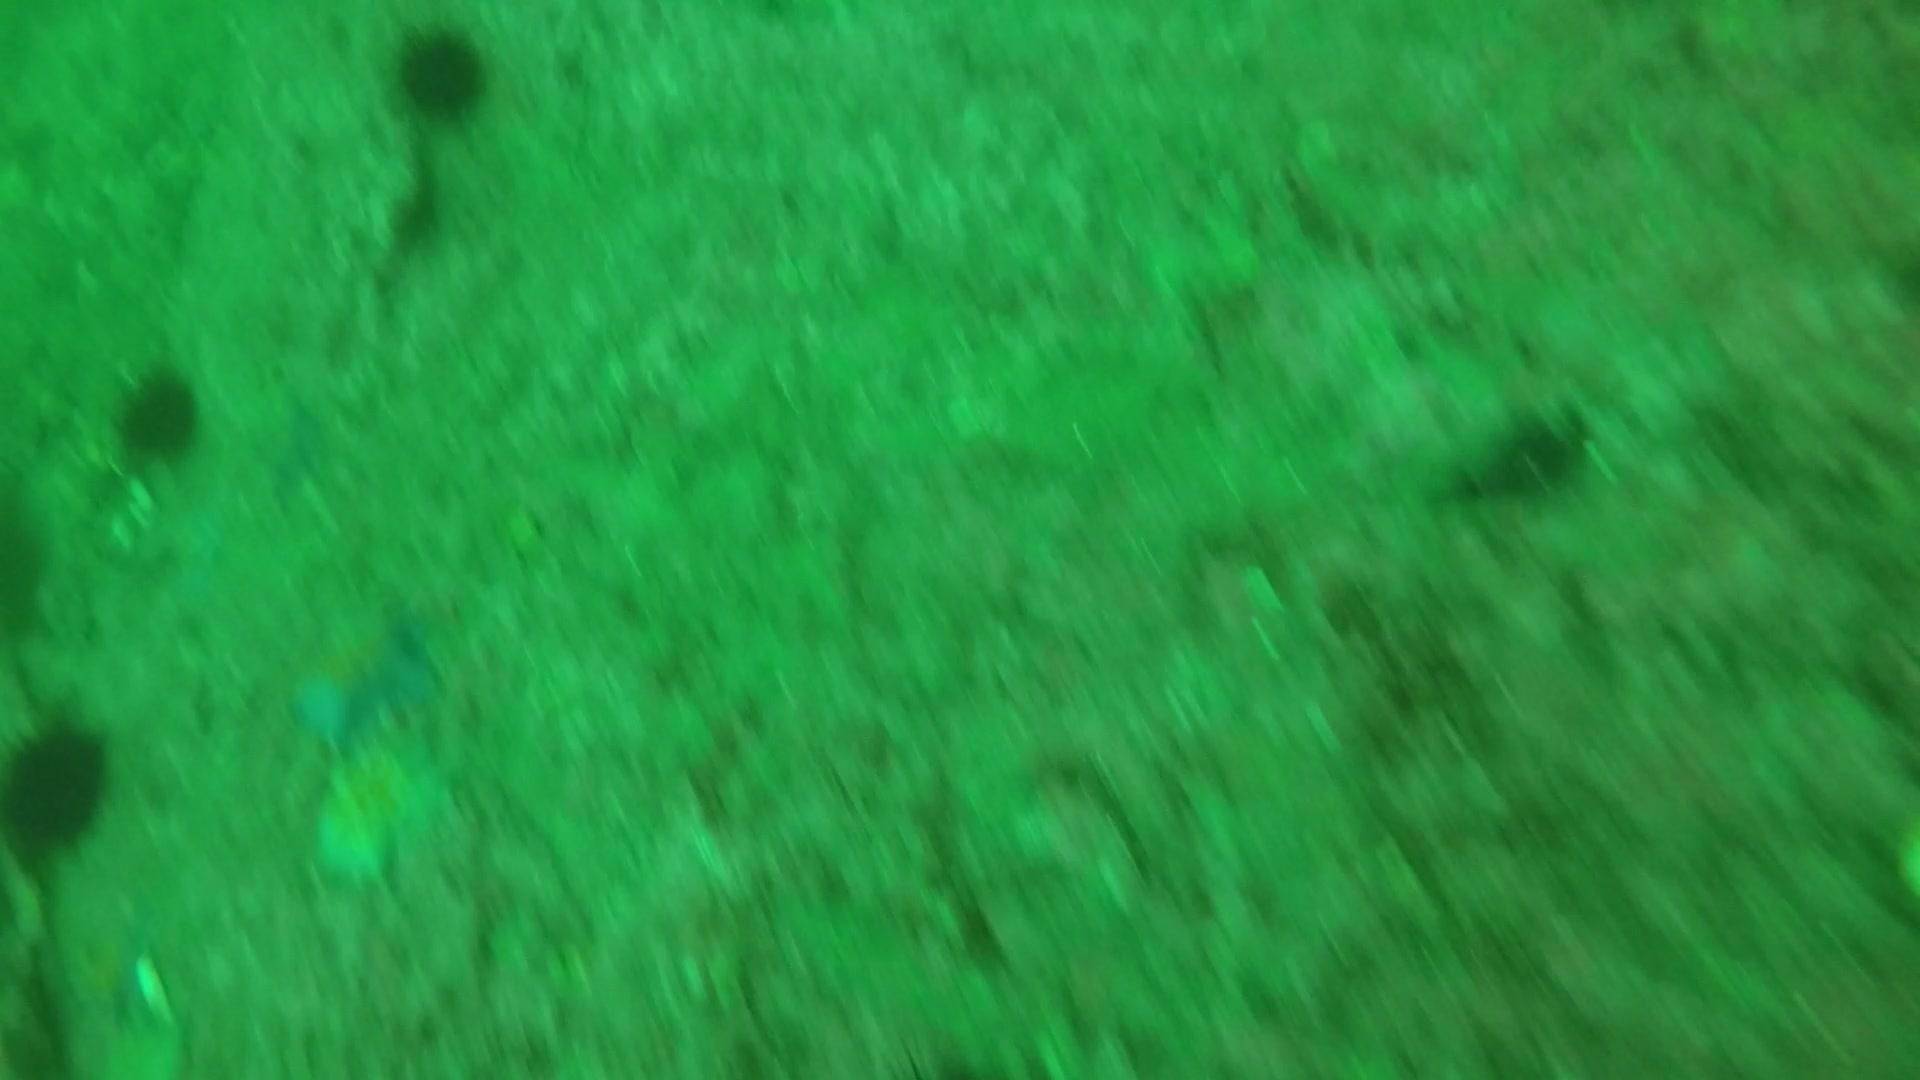echinus: (1, 705, 120, 866), (1443, 401, 1596, 506), (384, 20, 498, 127), (107, 360, 210, 469)
starfish: (277, 593, 448, 760)
